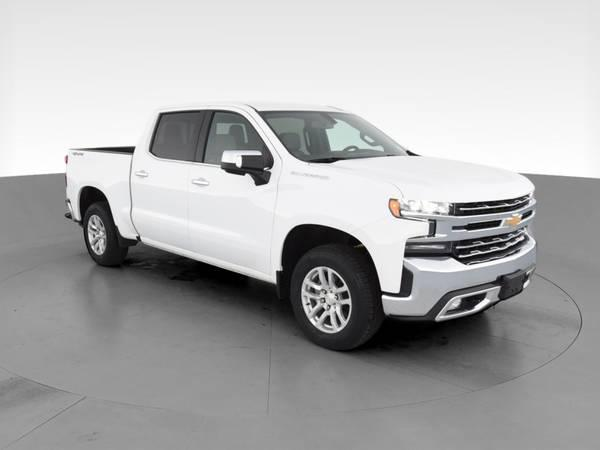Front_Bumper: (369, 240, 539, 325)
Front_Fender: (267, 156, 430, 283)
Front_Right_Door: (190, 164, 278, 281)
Front_Right_Window: (198, 111, 281, 172)
Front_Windshield: (258, 110, 414, 162)
Grille: (451, 189, 536, 261)
Hood: (314, 153, 532, 198)
Rear_Fender: (67, 146, 140, 242)
Rear_Right_Door: (130, 155, 195, 257)
Rear_Right_Window: (150, 111, 207, 161)
Right_Headlight: (386, 195, 452, 256)
Roof: (136, 100, 358, 162)
Wheel: (284, 240, 381, 348), (82, 202, 130, 267)
